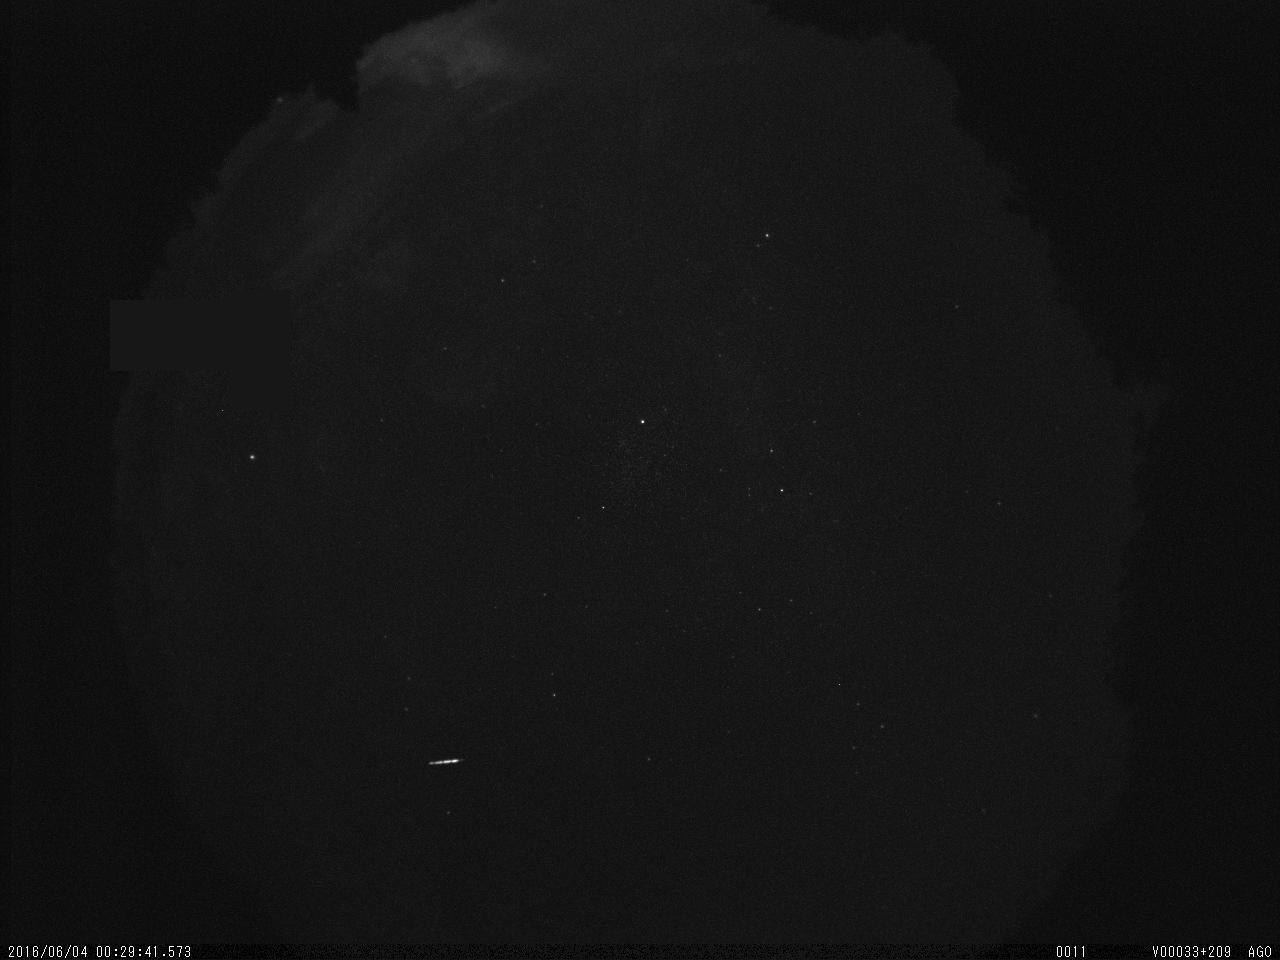meteor: (400, 743, 479, 776)
